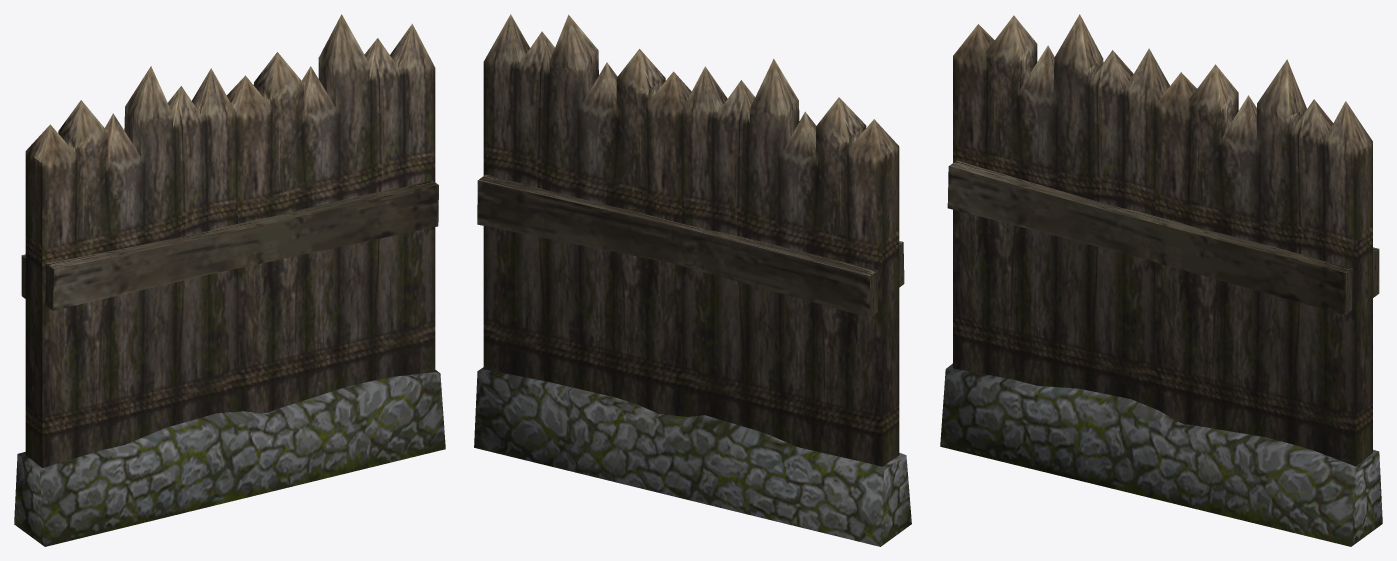
File: KQZD_zhalan_2.FBX
3 views of the same model, side by side, from view 1: azimuth 30°, elevation 25°; view 2: azimuth 150°, elevation 25°; view 3: azimuth 330°, elevation 25° (orthographic). The views are drawn at different scales.
Visible parts, largest first — view 1: KQZD_zhalan_2, KQZD_zhalan_2_1; view 2: KQZD_zhalan_2, KQZD_zhalan_2_1; view 3: KQZD_zhalan_2, KQZD_zhalan_2_1.
Part boxes in pixels (x1,y1,x2,y2): KQZD_zhalan_2: (25, 14, 435, 467); KQZD_zhalan_2_1: (14, 180, 445, 546); KQZD_zhalan_2: (483, 14, 899, 466); KQZD_zhalan_2_1: (474, 174, 911, 546); KQZD_zhalan_2: (953, 14, 1372, 466); KQZD_zhalan_2_1: (940, 160, 1382, 546).
Bounding box in the file's own units: 444 × 67.86 × 466.
